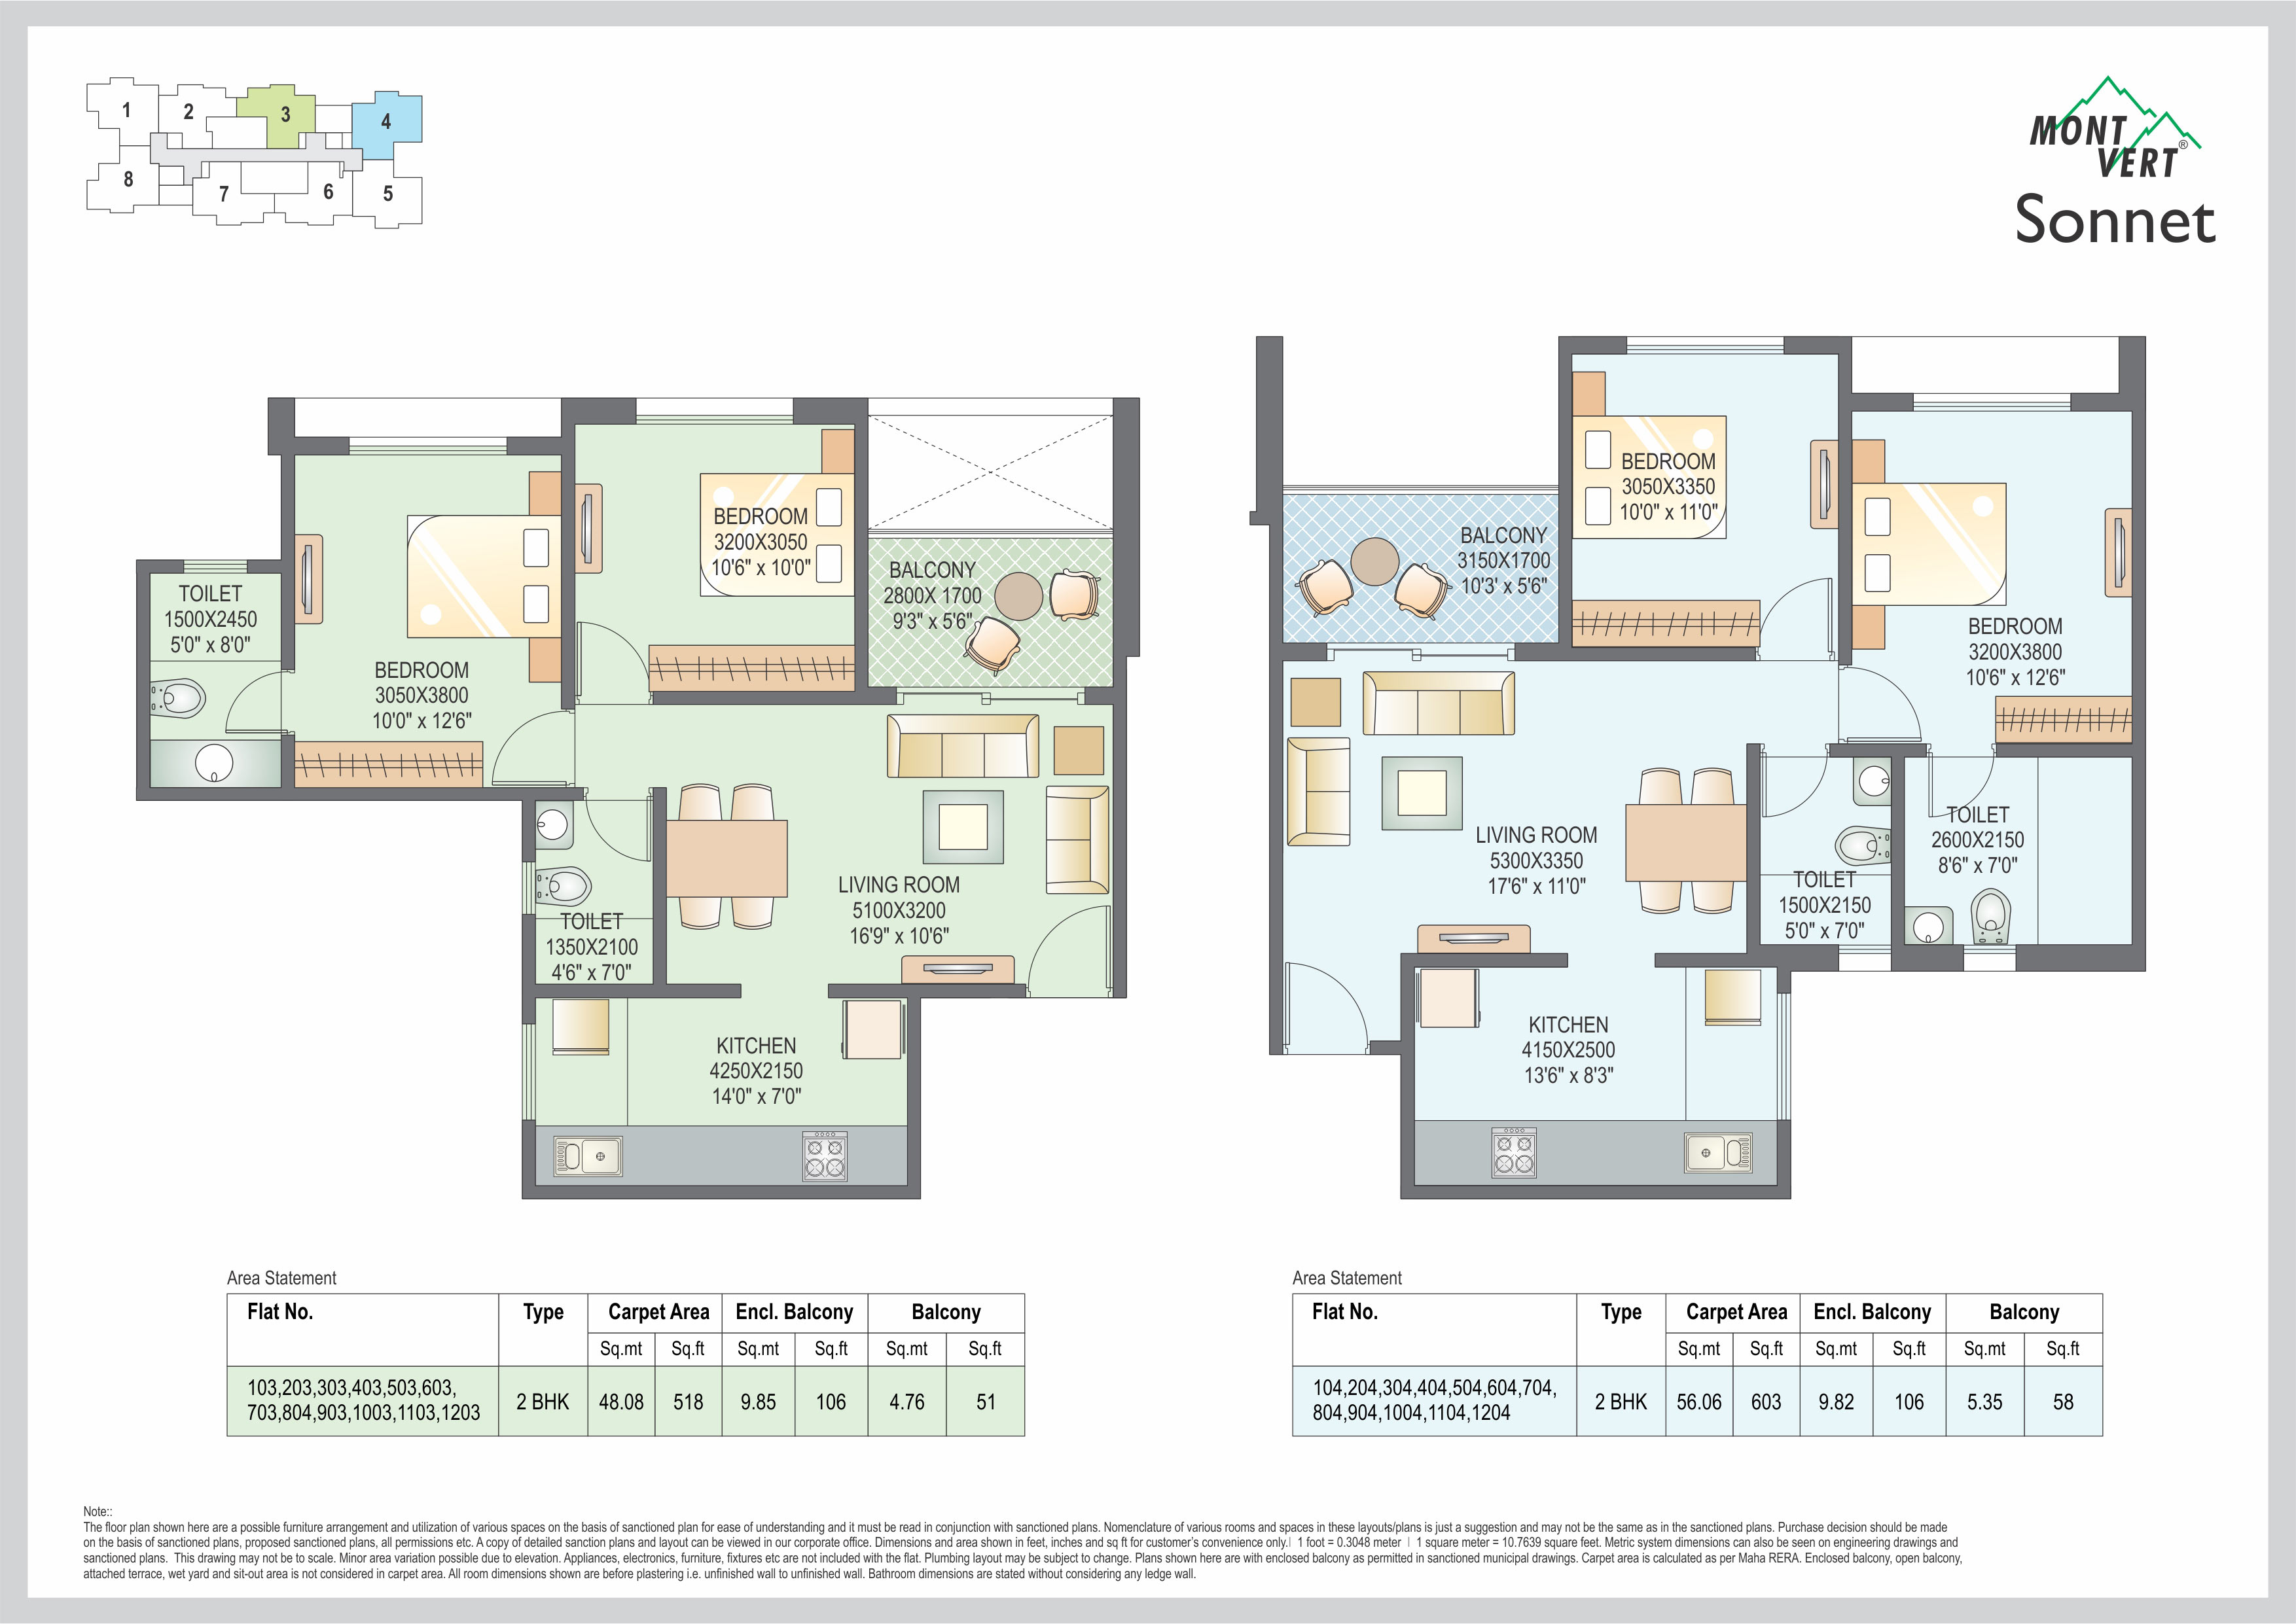window: (633, 394, 795, 427), (1906, 388, 2076, 415), (1623, 332, 1786, 359), (348, 436, 508, 459), (1774, 991, 1793, 1121), (1960, 940, 2018, 975), (1835, 942, 1893, 975), (520, 1021, 538, 1123), (181, 557, 251, 576), (517, 859, 536, 916)
